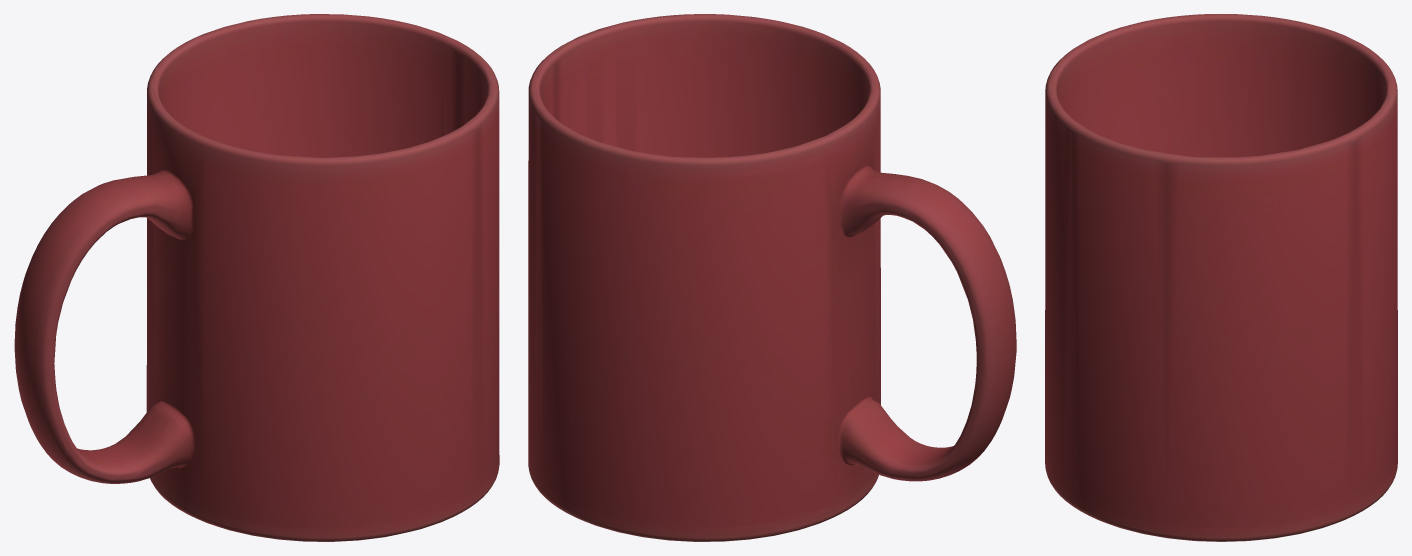
The model's file is mug.glb.
3 renders of one model, left to right at view 1: azimuth 30°, elevation 25°; view 2: azimuth 150°, elevation 25°; view 3: azimuth 270°, elevation 25°, orthographic.
Parts seen in each view (by area): view 1: sm_dishware_mug_coffee_a01_01; view 2: sm_dishware_mug_coffee_a01_01; view 3: sm_dishware_mug_coffee_a01_01.
Part boxes in pixels (box(x1,y1,x2,y2)): sm_dishware_mug_coffee_a01_01: box(14, 14, 499, 541); sm_dishware_mug_coffee_a01_01: box(528, 14, 1016, 541); sm_dishware_mug_coffee_a01_01: box(1045, 14, 1397, 541).
Bounding box in the file's own units: 0.1207 × 0.0972 × 0.081.
Materials: 1 (1 with a texture image).
